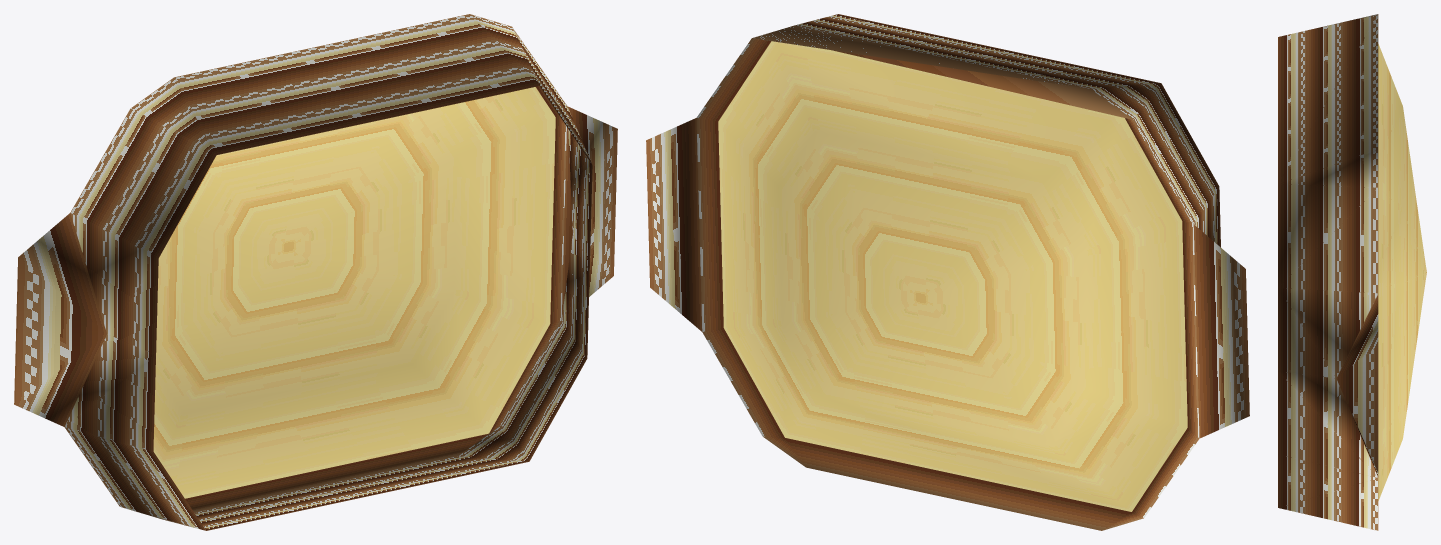
Rendered from 2789item2789e.gltf.
The picture shows the model from 3 angles, left to right: view 1: azimuth 30°, elevation 25°; view 2: azimuth 150°, elevation 25°; view 3: azimuth 270°, elevation 25°; orthographic projection. The views are drawn at different scales.
Parts seen in each view (by area): view 1: 2789item2789e; view 2: 2789item2789e; view 3: 2789item2789e.
Boxes of the visible parts, x1=… form: 2789item2789e: x1=14, y1=14, x2=617, y2=530; 2789item2789e: x1=646, y1=14, x2=1249, y2=530; 2789item2789e: x1=1278, y1=14, x2=1426, y2=530.
Size of the model in its own units: 0.8248 by 0.5847 by 0.2002.
2 materials, 2 textured.
